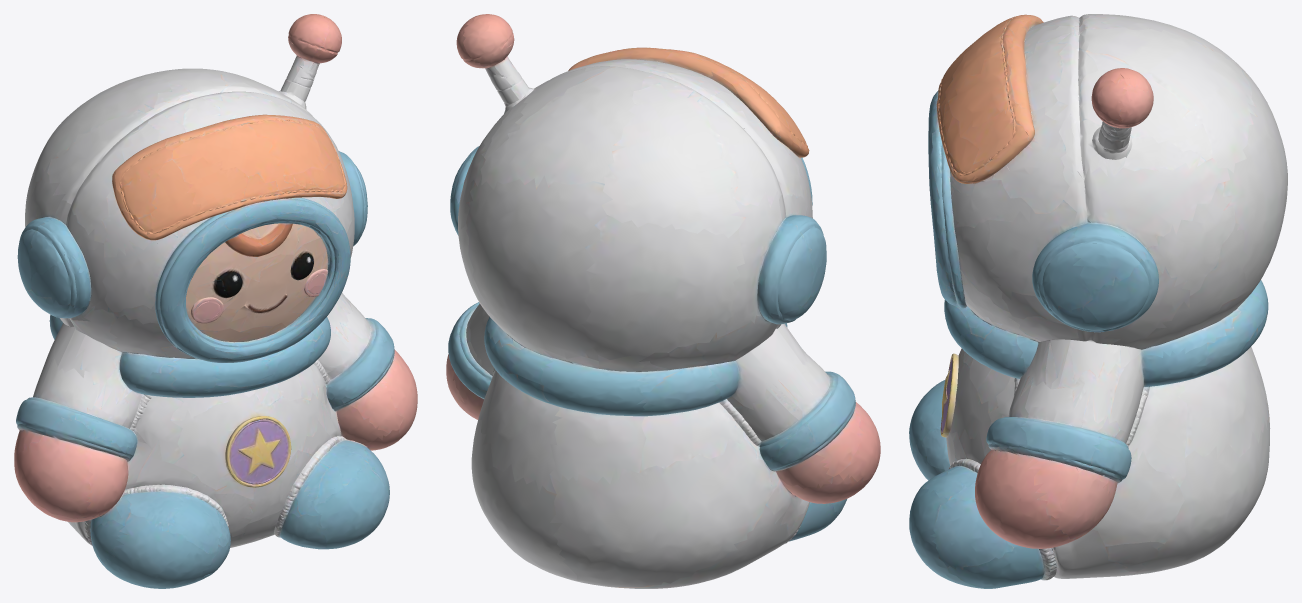
File: astronaut.gen.glb
3 renders of one model, left to right at view 1: azimuth 30°, elevation 25°; view 2: azimuth 150°, elevation 25°; view 3: azimuth 270°, elevation 25°, orthographic. The views are drawn at different scales.
Parts seen in each view (by area): view 1: LOD0; view 2: LOD0; view 3: LOD0.
Part boxes in pixels (x1=…): LOD0: x1=14, y1=14, x2=417, y2=588; LOD0: x1=446, y1=14, x2=880, y2=588; LOD0: x1=909, y1=14, x2=1287, y2=588.
Size of what is drawn, in the model's own units: 0.1839 by 0.21 by 0.1365.
Materials: 1 (1 with a texture image).
